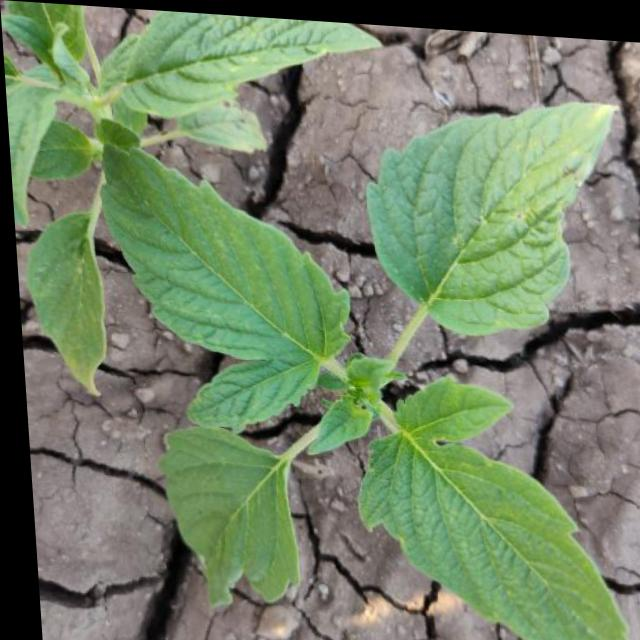crop: (70, 59, 640, 640)
